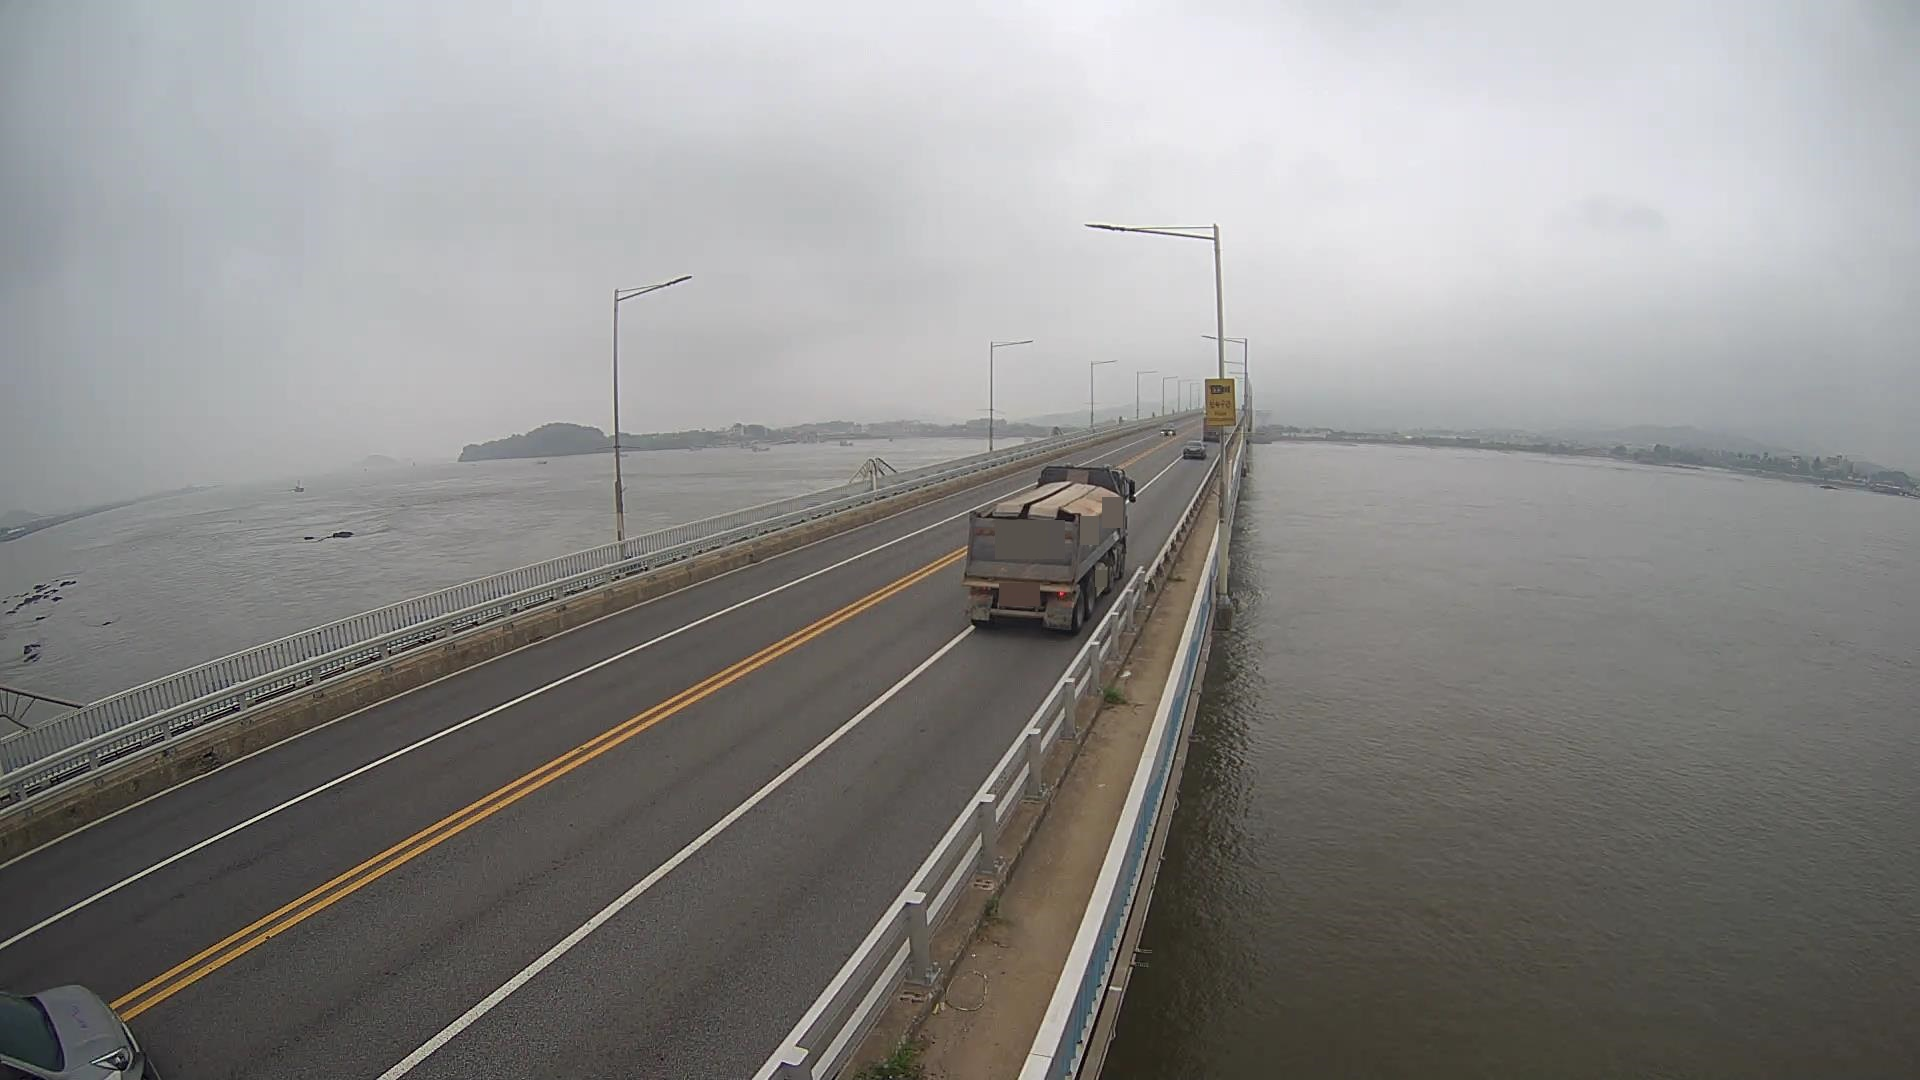정상차량: (963, 463, 1135, 634)
